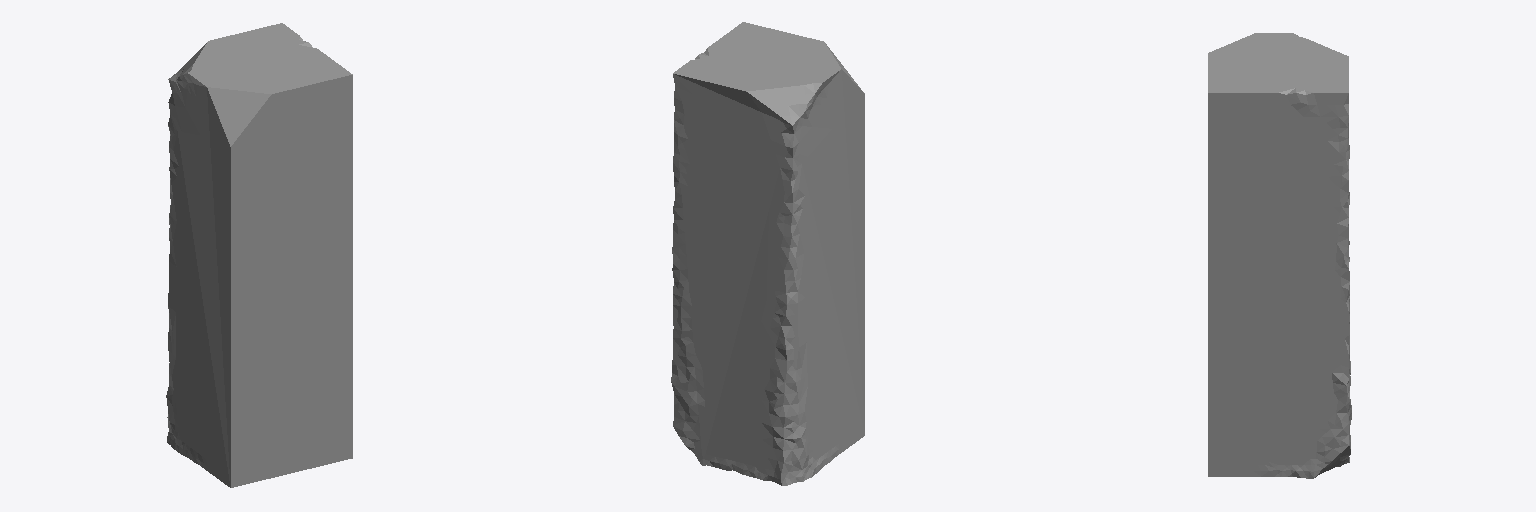
Rendered from pillar.obj.
The picture shows the model from 3 angles: view 1: azimuth 30°, elevation 25°; view 2: azimuth 150°, elevation 25°; view 3: azimuth 270°, elevation 25°; orthographic projection.
Visible parts, largest first — view 1: Cube_Cube.001; view 2: Cube_Cube.001; view 3: Cube_Cube.001.
Boxes of the visible parts, x1,y1,x2,y2 form: Cube_Cube.001: [166, 23, 352, 487]; Cube_Cube.001: [671, 22, 864, 485]; Cube_Cube.001: [1208, 33, 1351, 478].
Size of the model in its own units: 2.05 by 6.03 by 2.04.